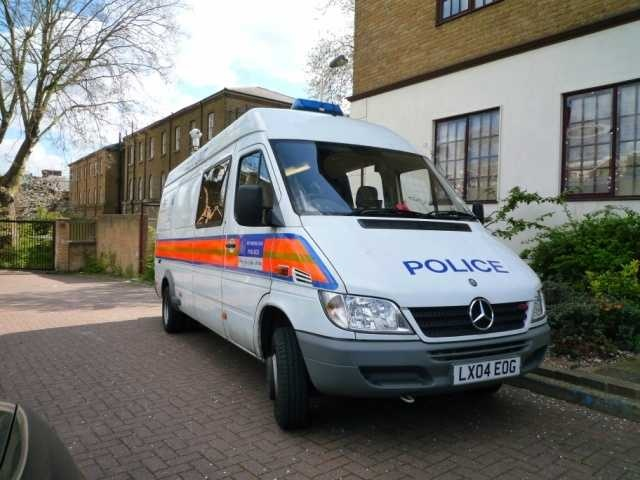Police Car: (123, 85, 563, 425)
